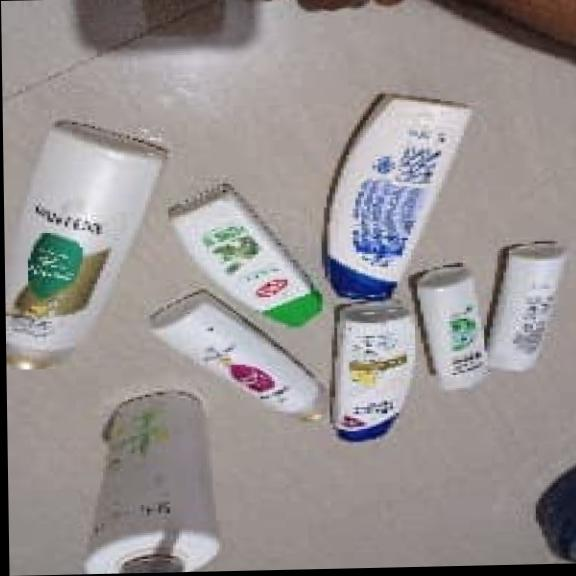Plastik: (6, 112, 151, 370), (412, 242, 551, 379), (111, 377, 205, 573), (316, 307, 414, 439)
